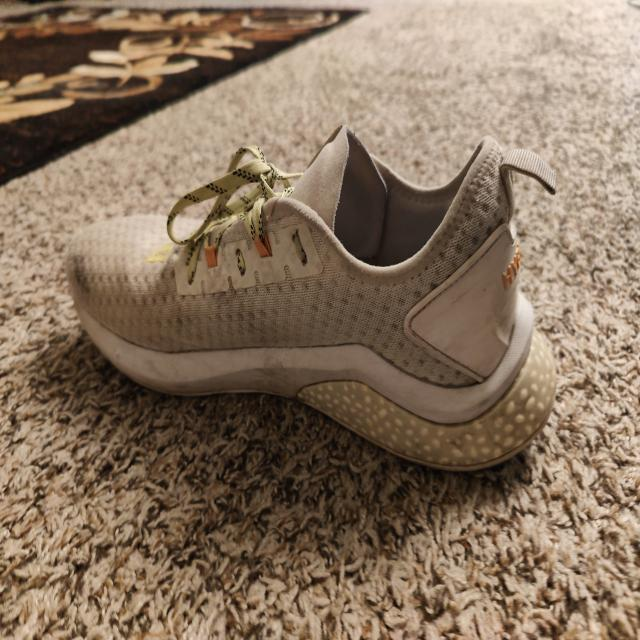white shoes: (73, 128, 557, 464)
